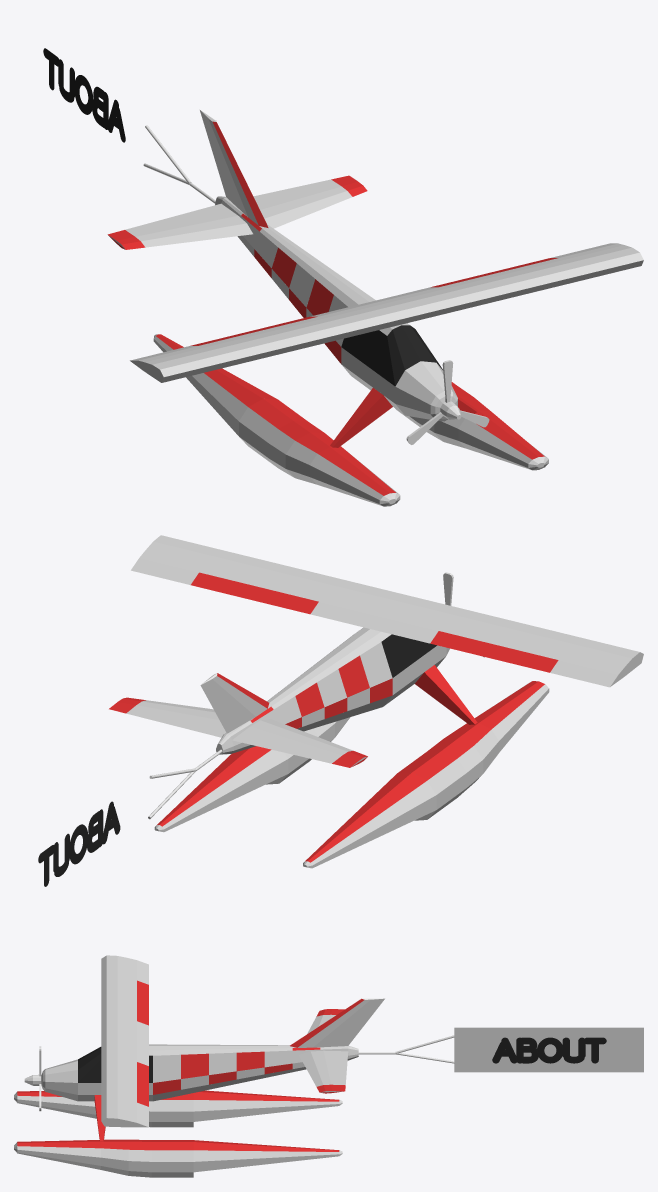
The picture shows the model from 3 angles, top to bottom: view 1: azimuth 30°, elevation 25°; view 2: azimuth 150°, elevation 25°; view 3: azimuth 270°, elevation 25°; orthographic projection. The views are drawn at different scales.
Parts seen in each view (by area): view 1: seaplane, flag text, Plane.002; view 2: seaplane, flag text; view 3: seaplane, flag background, flag text, Plane.002.
Part boxes in pixels (left/top/right/bottom): seaplane: left=107, top=110, right=643, bottom=506; flag text: left=43, top=48, right=125, bottom=142; Plane.002: left=406, top=360, right=489, bottom=444; seaplane: left=109, top=535, right=643, bottom=868; flag text: left=38, top=801, right=120, bottom=886; seaplane: left=14, top=955, right=384, bottom=1177; flag background: left=454, top=1027, right=643, bottom=1072; flag text: left=492, top=1037, right=606, bottom=1063; Plane.002: left=24, top=1046, right=41, bottom=1111.
Size of the model in its own units: 20.73 by 9.02 by 33.92.
